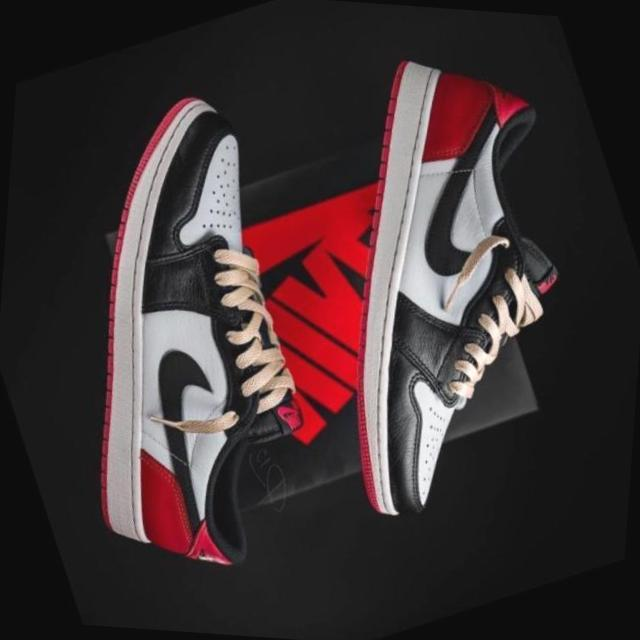nike_original_jordan: (209, 3, 640, 548), (0, 67, 397, 621)
